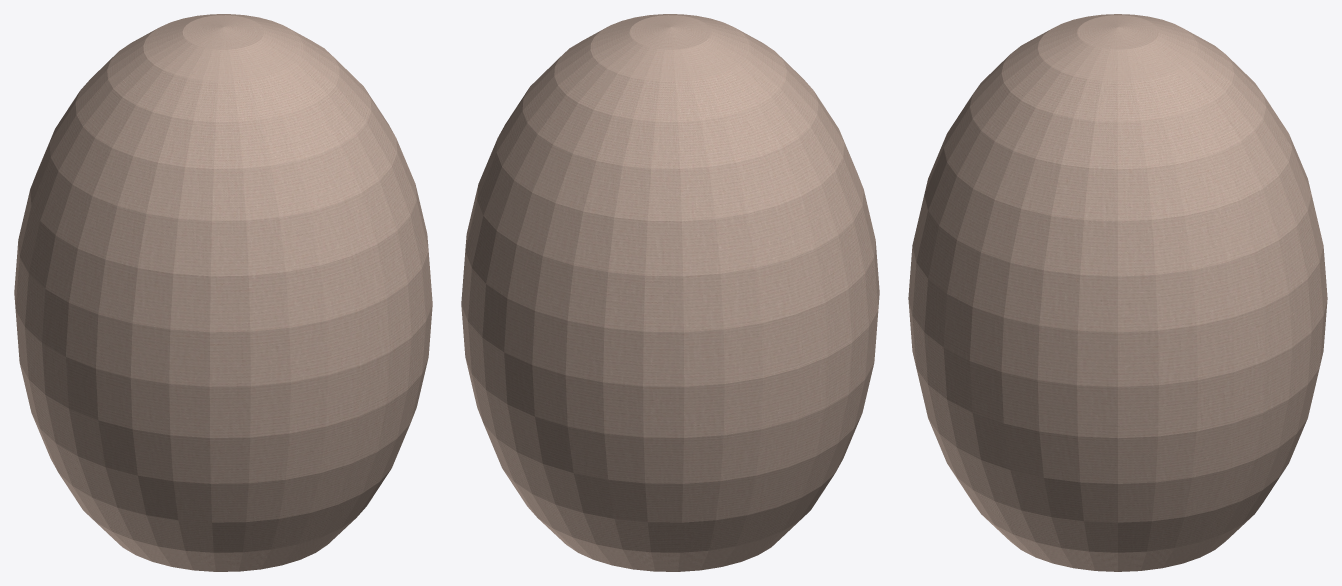
Rendered from buah5.fbx.
The picture shows the model from 3 angles, left to right: view 1: azimuth 30°, elevation 25°; view 2: azimuth 150°, elevation 25°; view 3: azimuth 270°, elevation 25°; orthographic projection.
Visible parts, largest first — view 1: Sphere.002; view 2: Sphere.002; view 3: Sphere.002.
Part boxes in pixels (x1,y1,x2,y2): Sphere.002: (14, 14, 432, 571); Sphere.002: (461, 14, 879, 571); Sphere.002: (908, 14, 1327, 571).
Bounding box in the file's own units: 200 × 270 × 200.
1 material, 1 textured.
